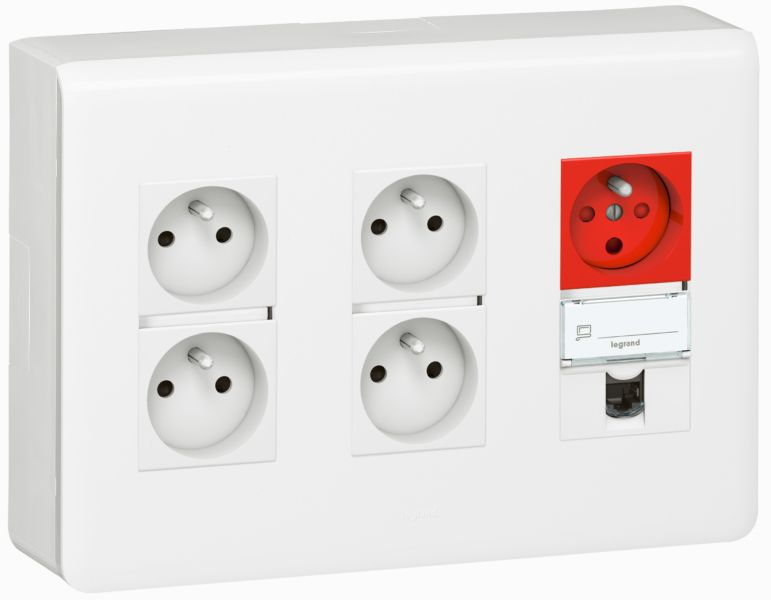raccoon: (359, 312, 479, 449), (146, 330, 270, 458), (146, 182, 271, 308), (565, 158, 684, 287), (360, 171, 479, 296)
